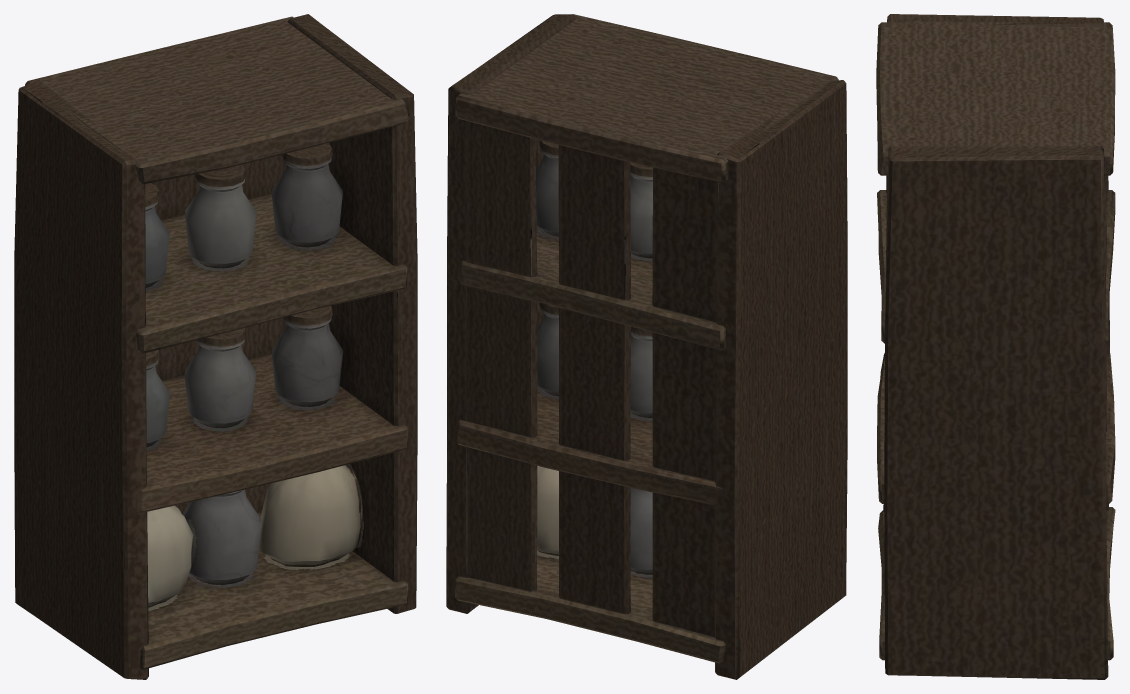
File: pantry_shelf.glb
3 renders of one model, left to right at view 1: azimuth 30°, elevation 25°; view 2: azimuth 150°, elevation 25°; view 3: azimuth 270°, elevation 25°, orthographic.
Visible parts, largest first — view 1: pantry_shelf; view 2: pantry_shelf; view 3: pantry_shelf.
Boxes of the visible parts, box(x1,y1,x2,y2) form: pantry_shelf: box(14, 14, 417, 679); pantry_shelf: box(446, 14, 847, 679); pantry_shelf: box(876, 14, 1115, 679).
Size of the model in its own units: 0.8522 by 1.44 by 0.5947.
Materials: 1 (1 with a texture image).
